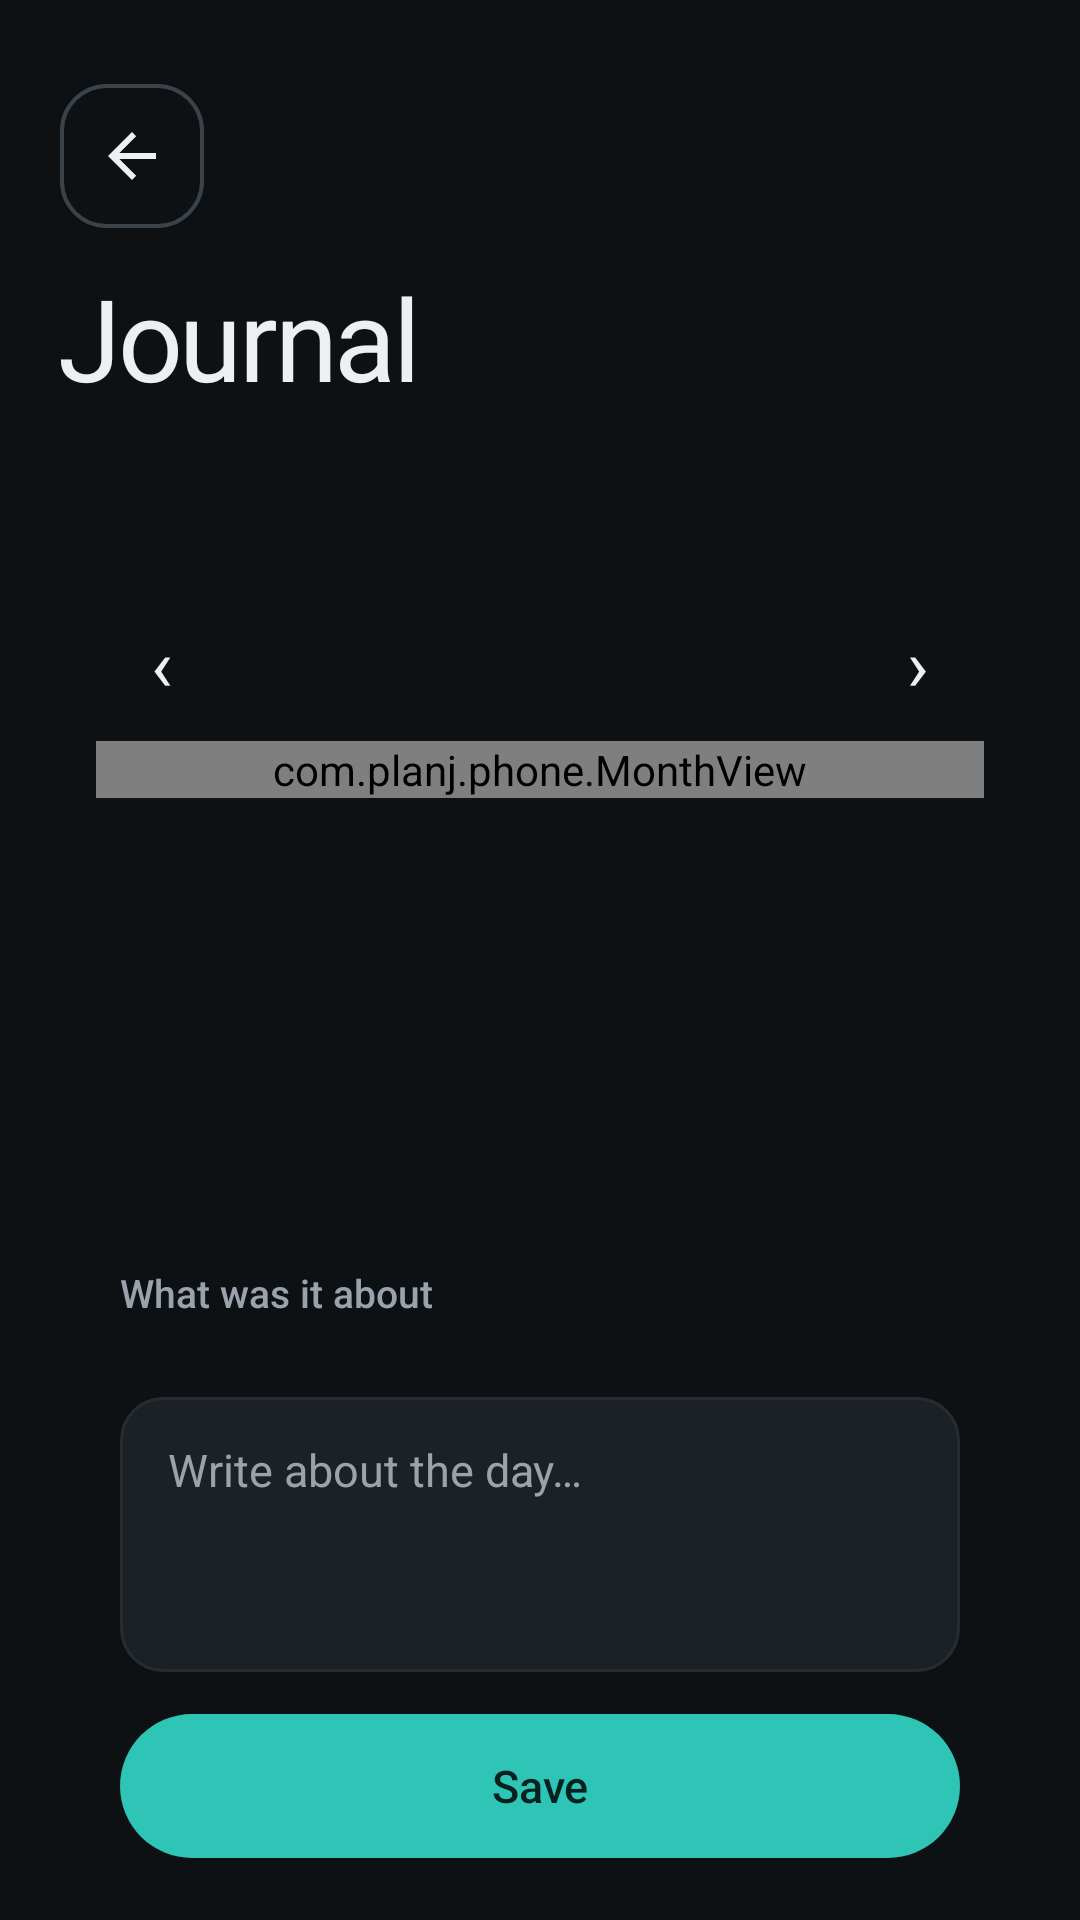

Named icons in this screenshot (1080px x 1920px) and their bounding boxes, (x1, y1, x2, y2):
Back: (60, 84, 204, 228)
